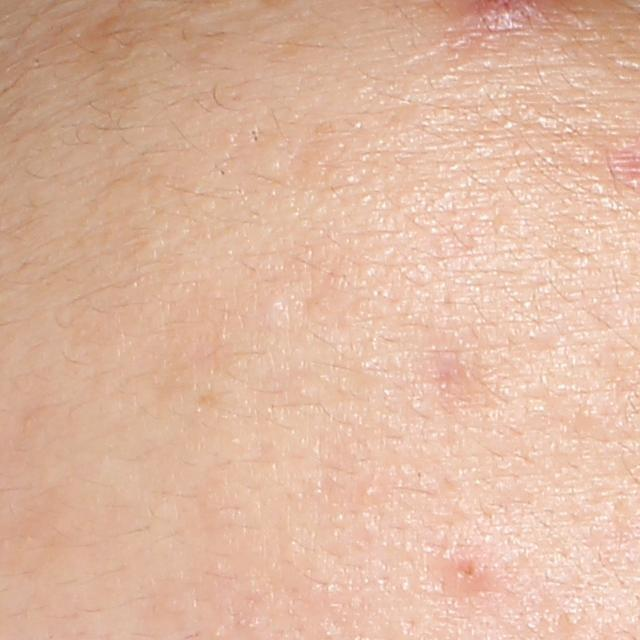comedo: (364, 483, 377, 498)
papule: (442, 544, 495, 599)
